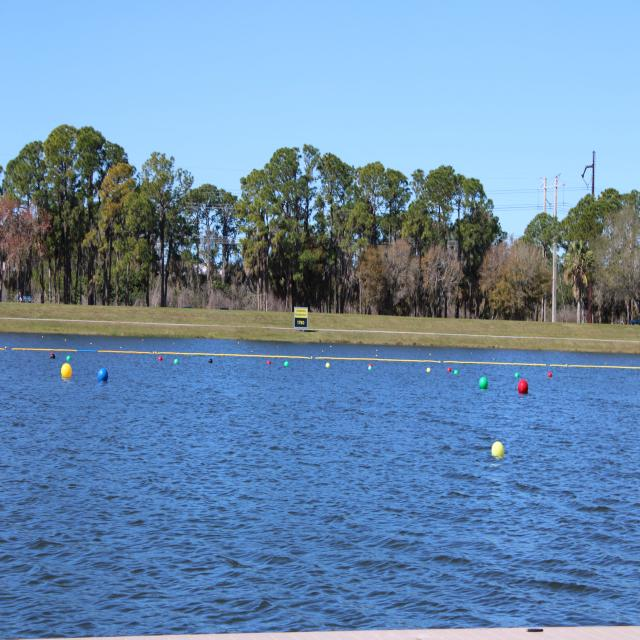blue-buoy: (97, 366, 107, 382)
green-buoy: (481, 377, 489, 390), (66, 355, 73, 363)
red-buoy: (520, 380, 530, 396), (549, 370, 554, 378), (268, 359, 273, 366)
yellow-buoy: (491, 442, 505, 460), (62, 362, 73, 378), (426, 366, 431, 372)
